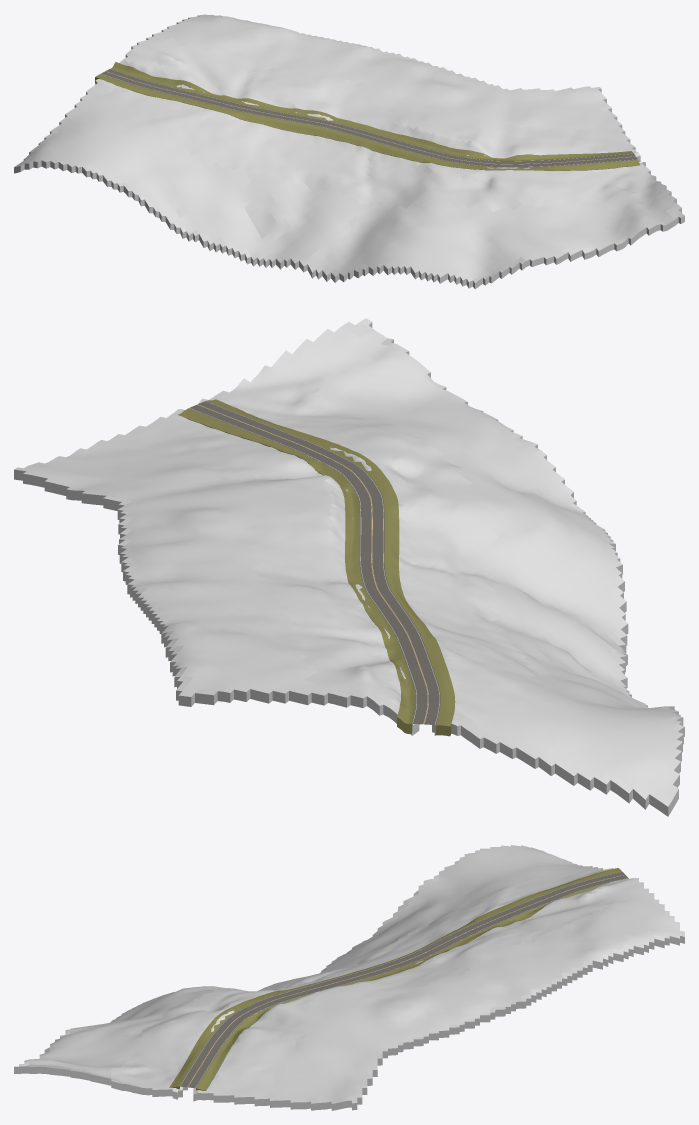
File: conz_160.glb
3 views of the same model, one above another, from view 1: azimuth 30°, elevation 25°; view 2: azimuth 150°, elevation 25°; view 3: azimuth 270°, elevation 25° (orthographic). The views are drawn at different scales.
Parts seen in each view (by area): view 1: terrain160, road160, verge160L, verge160R, paint_yellow160; view 2: terrain160, road160, verge160R, verge160L, paint_white160; view 3: terrain160, road160, verge160L, verge160R, paint_white160, paint_yellow160.
Boxes of the visible parts, box(x1,y1,x2,y2) form: terrain160: box(14, 14, 684, 289); road160: box(101, 68, 637, 167); verge160L: box(95, 74, 639, 170); verge160R: box(111, 62, 633, 160); paint_yellow160: box(106, 71, 635, 164); terrain160: box(14, 318, 684, 816); road160: box(188, 401, 440, 724); verge160R: box(178, 408, 415, 733); verge160L: box(206, 399, 455, 736); paint_white160: box(189, 401, 439, 724); terrain160: box(14, 845, 684, 1110); road160: box(179, 871, 628, 1088); verge160L: box(169, 868, 621, 1089); verge160R: box(196, 878, 628, 1090); paint_white160: box(180, 871, 627, 1087); paint_yellow160: box(187, 874, 625, 1086).
Bounding box in the file's own units: 252 × 52.83 × 262.
